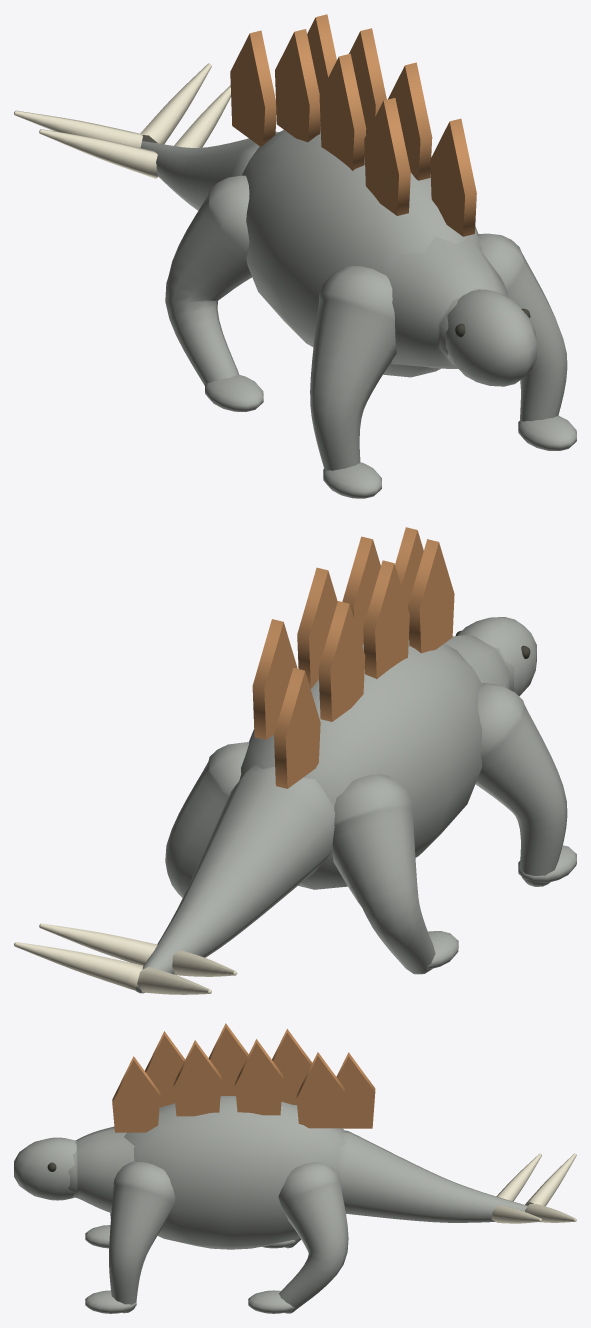
The model's file is stegosaurus.glb.
The picture shows the model from 3 angles, top to bottom: view 1: azimuth 30°, elevation 25°; view 2: azimuth 150°, elevation 25°; view 3: azimuth 270°, elevation 25°; orthographic projection. The views are drawn at different scales.
Visible parts, largest first — view 1: stegosaurus; view 2: stegosaurus; view 3: stegosaurus.
Boxes of the visible parts, left/top/right/bottom form: stegosaurus: left=14, top=14, right=576, bottom=498; stegosaurus: left=14, top=527, right=576, bottom=994; stegosaurus: left=14, top=1023, right=576, bottom=1313.
Size of the model in its own units: 2.47 by 3.4 by 7.
